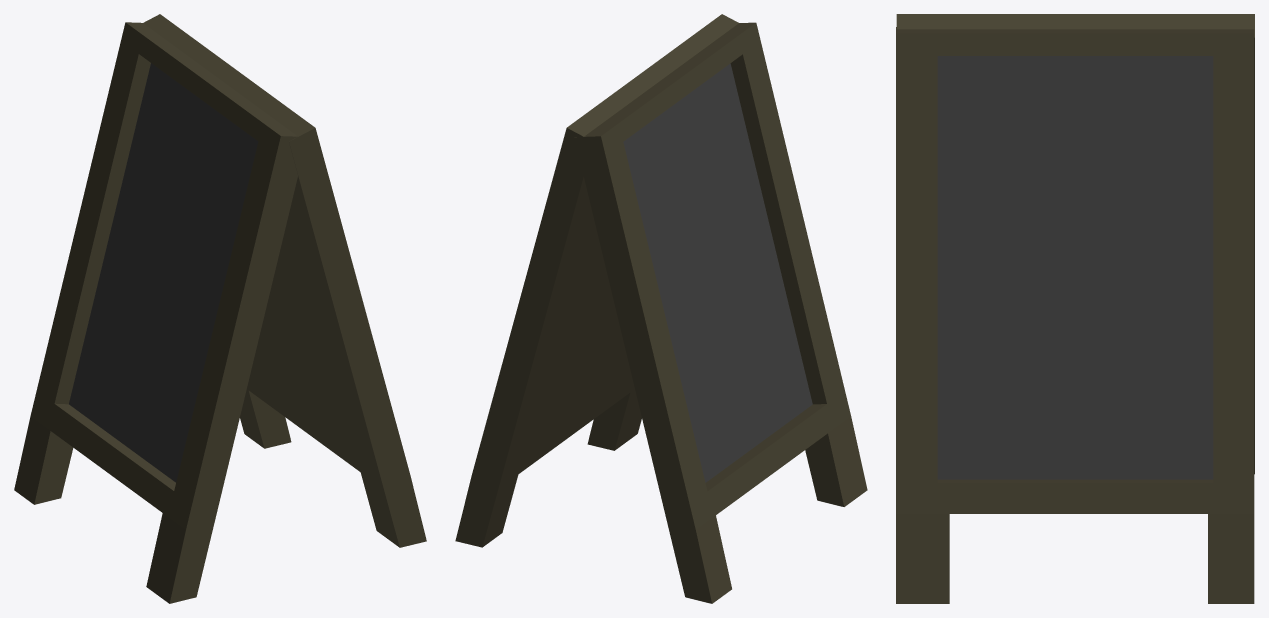
The model's file is Sign.fbx.
3 renders of one model, left to right at view 1: azimuth 30°, elevation 25°; view 2: azimuth 150°, elevation 25°; view 3: azimuth 270°, elevation 25°, orthographic. The views are drawn at different scales.
Visible parts, largest first — view 1: Cube.001, Cube; view 2: Cube.001, Cube; view 3: Cube, Cube.001.
Boxes of the visible parts, <box> form: Cube.001: <box>14,22,297,603</box>; Cube: <box>143,14,426,547</box>; Cube.001: <box>574,22,867,603</box>; Cube: <box>455,14,738,547</box>; Cube: <box>896,27,1254,603</box>; Cube.001: <box>896,14,1254,474</box>.
Bounding box in the file's own units: 77.92 × 128 × 81.71.
